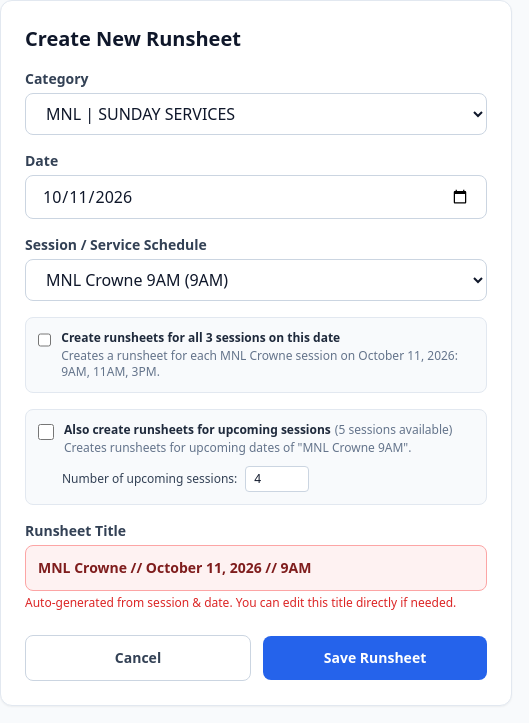
Test case: CreateRunsheetForm batch operations › Date-wide batch checkbox › appears when schedules.length >= 2, and updates the submit button label when checked
The width and height of the screenshot is (529, 723).
Check: the button "Save Runsheet" is shown, box [263,636,487,680]
Step 1. Click the checkbox labelled "Create runsheets for all 3 sessions on this date" → (45, 340), box [38,332,51,348]
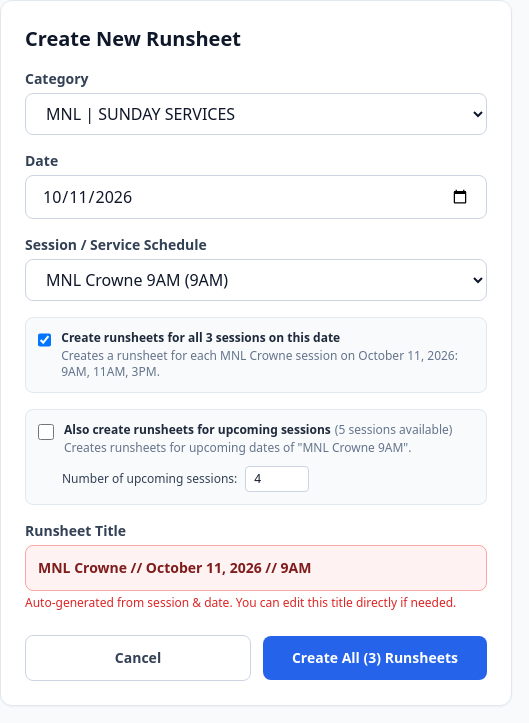
Check: the checkbox labelled "Create runsheets for all 3 sessions on this date" is checked, box [38,332,51,348]
Check: the button "Create All (3) Runsheets" is shown, box [263,636,487,680]
